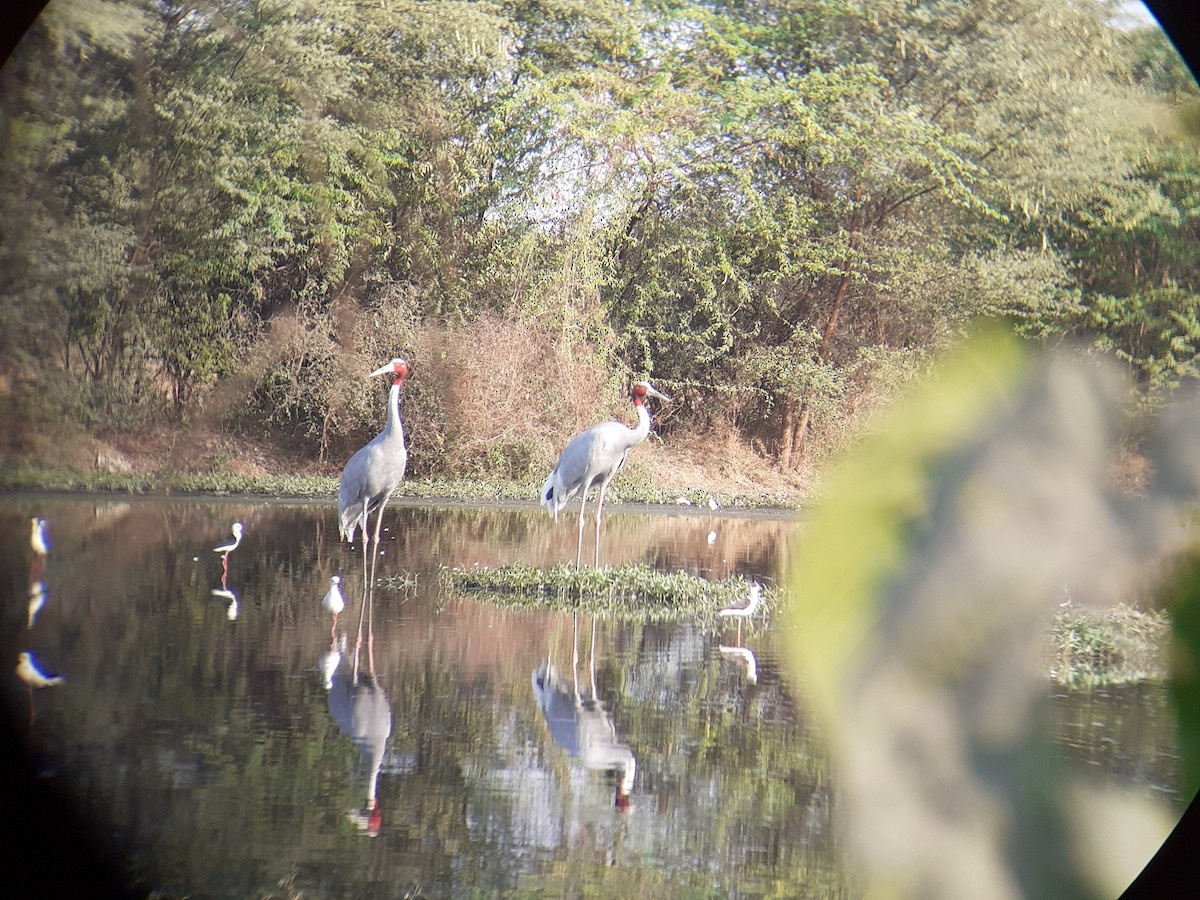crane: (535, 378, 666, 564), (328, 355, 419, 583)
